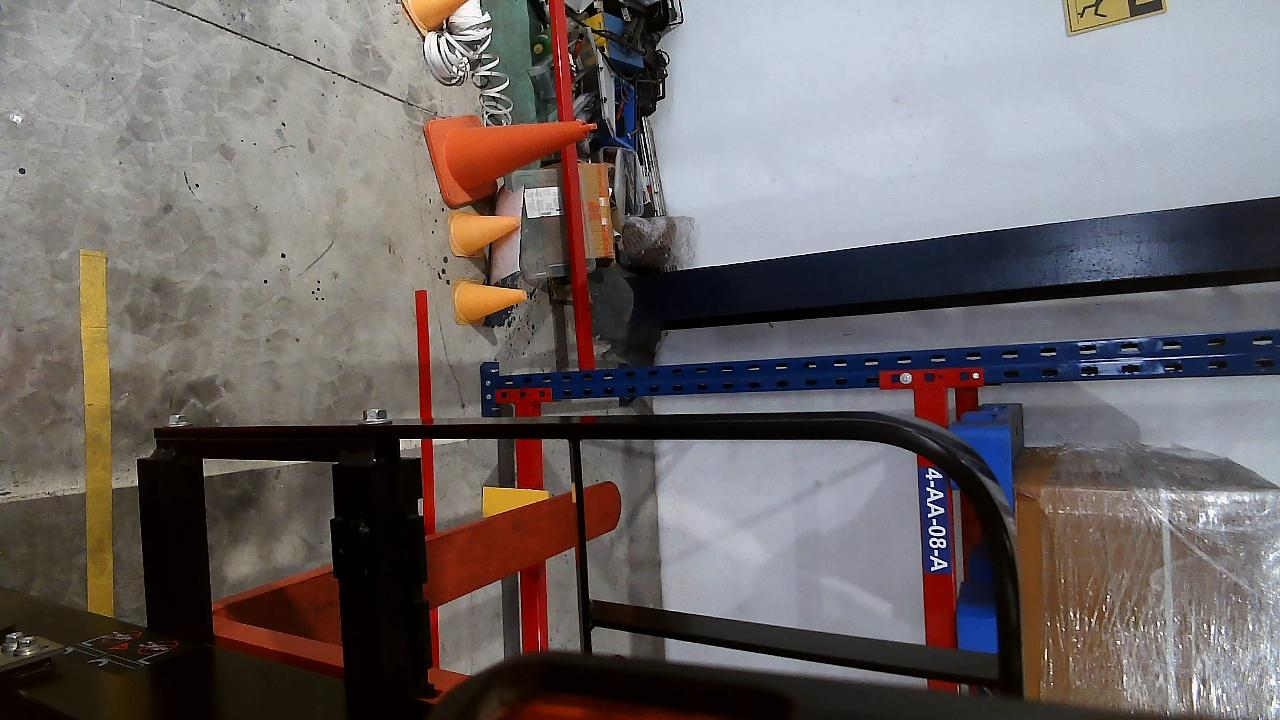h_rack: (910, 387, 965, 647), (513, 401, 548, 649)
red_line: (416, 289, 442, 673)
small_pallet: (952, 425, 1011, 658)
yellow_line: (80, 251, 115, 616)
